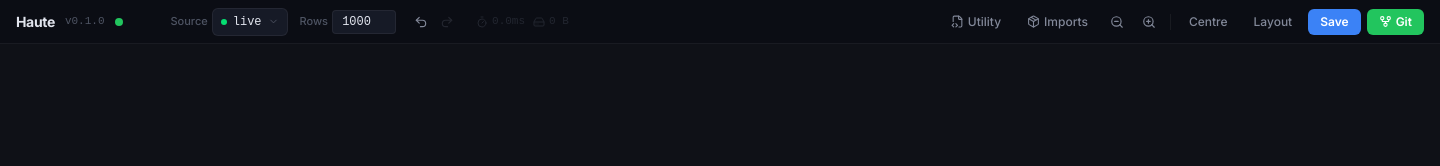
Test: Toolbar › source selector shows all sources when opened
This screenshot has width=1440, height=166.
Click the button titled "Data source" at (250, 22), box [212,8,288,36]
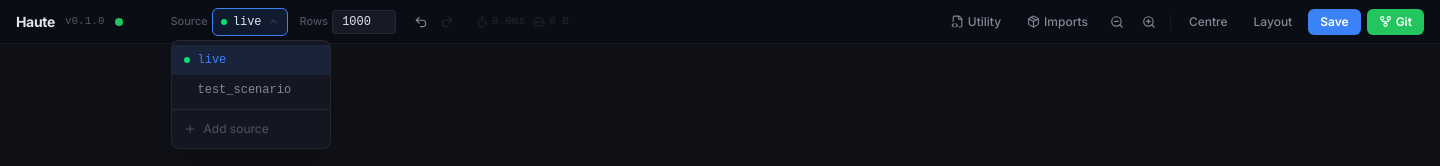
Result: the button "test_scenario" is shown at [172,74,330,104]
